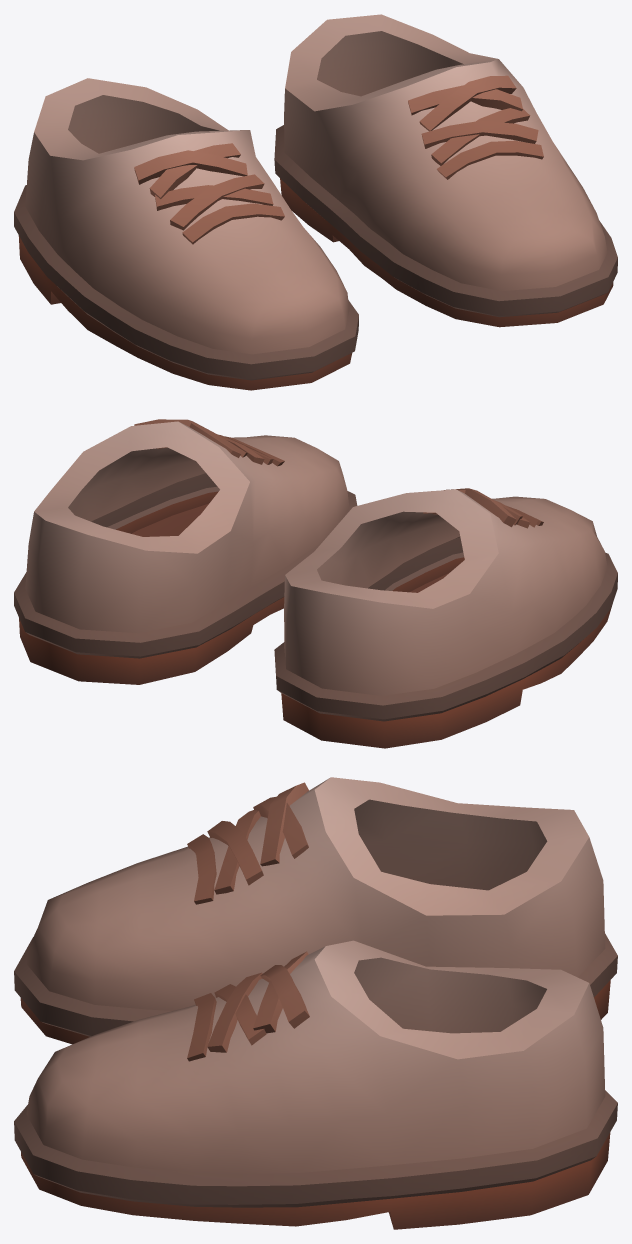
Rendered from Shoe_Sneakers_12.glb.
The picture shows the model from 3 angles, top to bottom: view 1: azimuth 30°, elevation 25°; view 2: azimuth 150°, elevation 25°; view 3: azimuth 270°, elevation 25°; orthographic projection. The views are drawn at different scales.
Parts seen in each view (by area): view 1: Shoe_Sneakers_12; view 2: Shoe_Sneakers_12; view 3: Shoe_Sneakers_12.
Part boxes in pixels (x1,y1,x2,y2): Shoe_Sneakers_12: (14, 14, 617, 390); Shoe_Sneakers_12: (14, 419, 617, 748); Shoe_Sneakers_12: (14, 777, 617, 1229).
Size of the model in its own units: 0.255 by 0.0871 by 0.222.
1 material, 1 textured.
